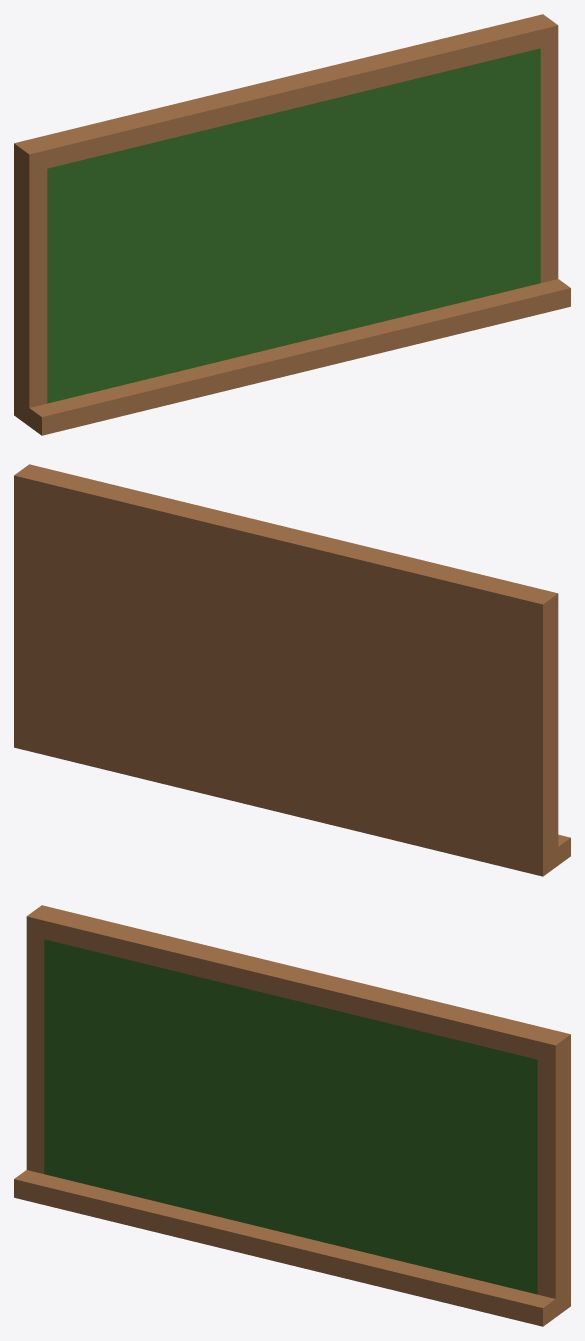
Rendered from ChalkBoard.fbx.
3 views of the same model, one above another, from view 1: azimuth 30°, elevation 25°; view 2: azimuth 150°, elevation 25°; view 3: azimuth 330°, elevation 25° (orthographic).
Parts seen in each view (by area): view 1: 큐브; view 2: 큐브; view 3: 큐브.
Boxes of the visible parts, <box> form: 큐브: <box>14,14,570,435</box>; 큐브: <box>14,464,570,876</box>; 큐브: <box>14,905,570,1326</box>.
Bounding box in the file's own units: 689 × 338 × 62.9.
